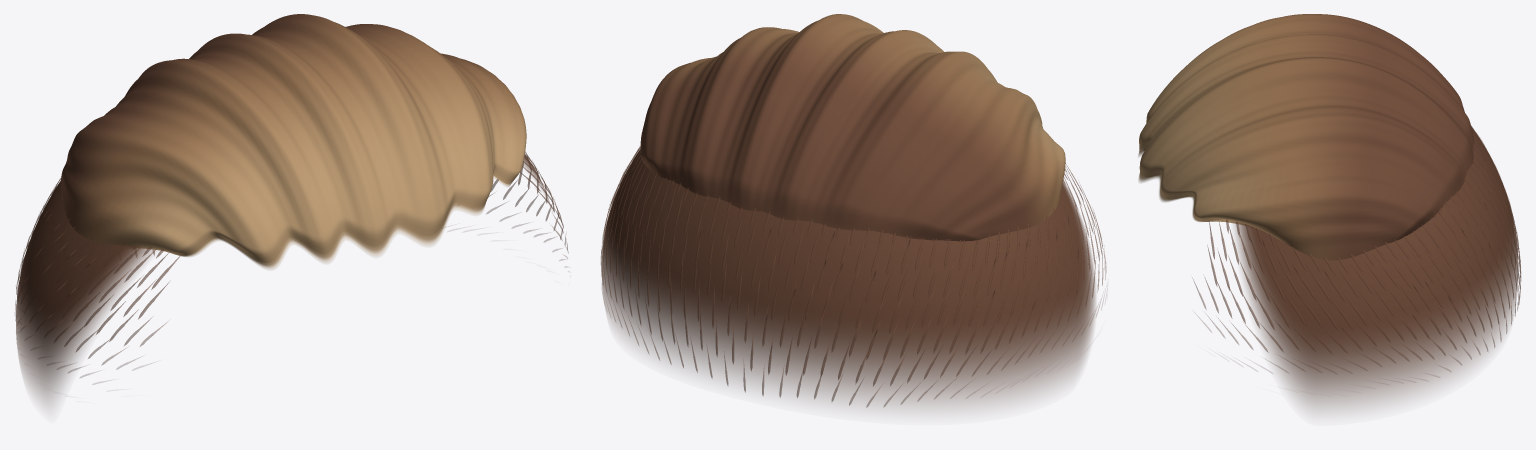
File: Masculine-sidepart-ears259-hair-ombre.glb
The picture shows the model from 3 angles, left to right: view 1: azimuth 30°, elevation 25°; view 2: azimuth 150°, elevation 25°; view 3: azimuth 270°, elevation 25°; orthographic projection. The views are drawn at different scales.
Visible parts, largest first — view 1: 226 hair / Hair259 / textured forward Crop, 226 hair / Hair258 / smooth side fade, 226 hair / Hair259 / directional fade marks214; view 2: 226 hair / Hair258 / smooth side fade, 226 hair / Hair259 / textured forward Crop, 226 hair / Hair259 / directional fade marks214; view 3: 226 hair / Hair259 / textured forward Crop, 226 hair / Hair258 / smooth side fade, 226 hair / Hair259 / directional fade marks214.
Part boxes in pixels (<box>): 226 hair / Hair259 / textured forward Crop: <box>61,14,526,269</box>; 226 hair / Hair258 / smooth side fade: <box>16,154,551,405</box>; 226 hair / Hair259 / directional fade marks214: <box>15,152,568,384</box>; 226 hair / Hair258 / smooth side fade: <box>601,149,1095,409</box>; 226 hair / Hair259 / textured forward Crop: <box>640,14,1065,241</box>; 226 hair / Hair259 / directional fade marks214: <box>601,146,1107,407</box>; 226 hair / Hair259 / textured forward Crop: <box>1138,14,1474,260</box>; 226 hair / Hair258 / smooth side fade: <box>1234,128,1518,411</box>; 226 hair / Hair259 / directional fade marks214: <box>1193,125,1521,380</box>.
Size of the model in its own units: 0.9743 by 0.6424 by 0.7545.
